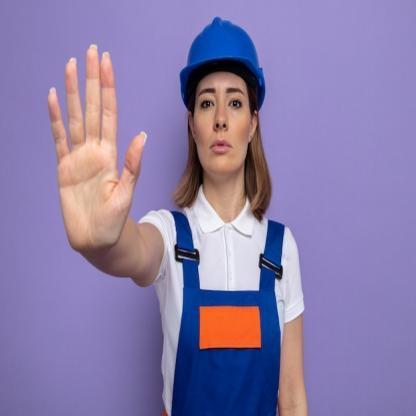stop: (46, 39, 148, 254)
